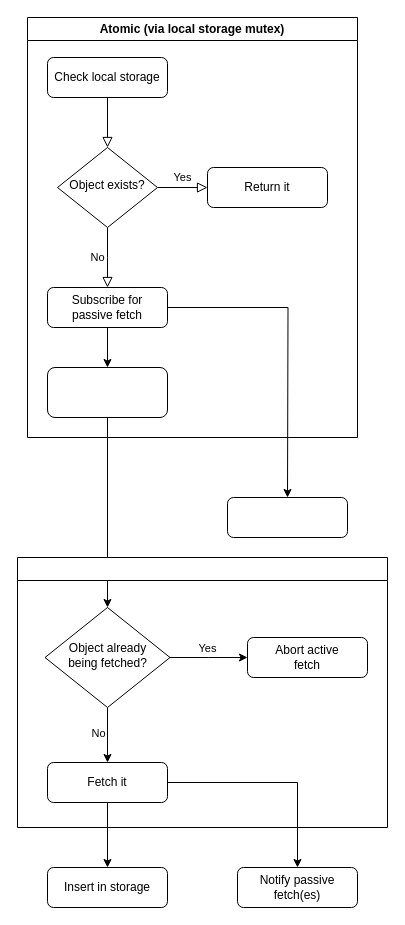
Image size: 405x925. Some labels were removed from this diagram. The centre of each missing label's shape, as x and y in pixels:
Atomic (via fetcher mutex): point 202,692
Begin active fetch (may check storage again): point 107,392
Wait for passive fetch: point 287,517
